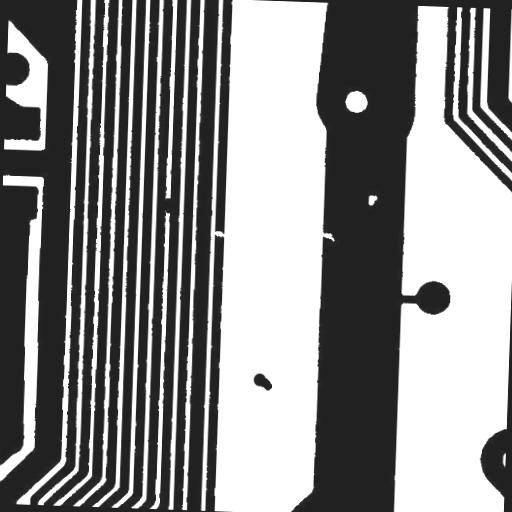copper: (244, 365, 280, 398)
mousebite: (312, 222, 342, 248)
open: (204, 222, 232, 244)
pin-hole: (360, 186, 384, 212)
short: (154, 190, 183, 220)
